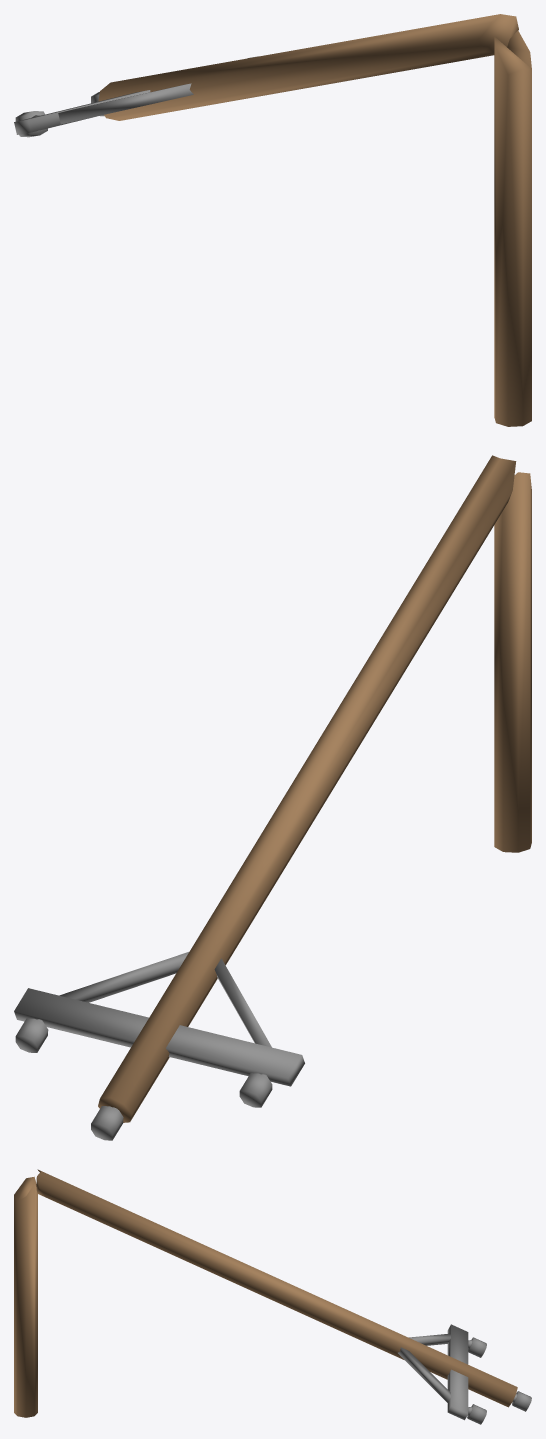
Rendered from pylon_broken.dae.
The picture shows the model from 3 angles, top to bottom: view 1: azimuth 30°, elevation 25°; view 2: azimuth 150°, elevation 25°; view 3: azimuth 270°, elevation 25°; orthographic projection. The views are drawn at different scales.
Parts seen in each view (by area): view 1: BrookenPylon; view 2: BrookenPylon; view 3: BrookenPylon.
Part boxes in pixels (left/top/right/bottom): BrookenPylon: left=14, top=14, right=531, bottom=426; BrookenPylon: left=14, top=455, right=531, bottom=1140; BrookenPylon: left=14, top=1169, right=531, bottom=1424.
Bounding box in the file's own units: 2 × 5.36 × 2.76.
